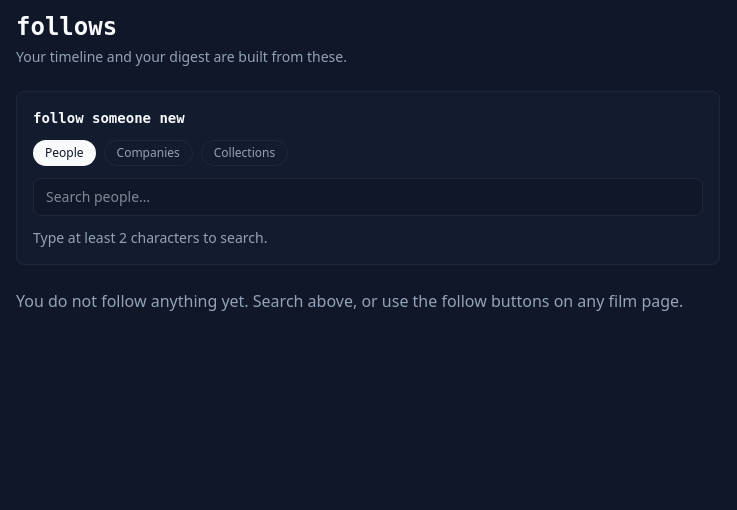
MyFollows › keeps the name once the server answers, not just while the request is open
The width and height of the screenshot is (737, 510).
In the search field labelled "Search people…": (368, 197) [33, 178, 703, 216], type "nolan"
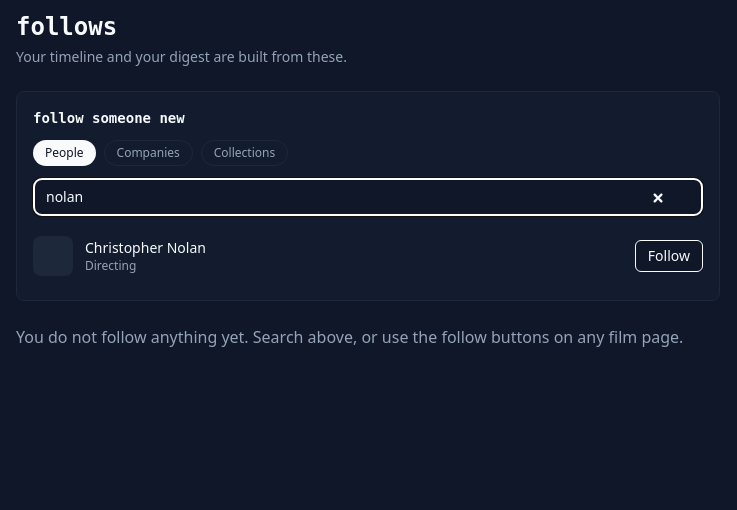
Click the button with aria-label "follow christopher nolan": (669, 256) [635, 240, 703, 272]
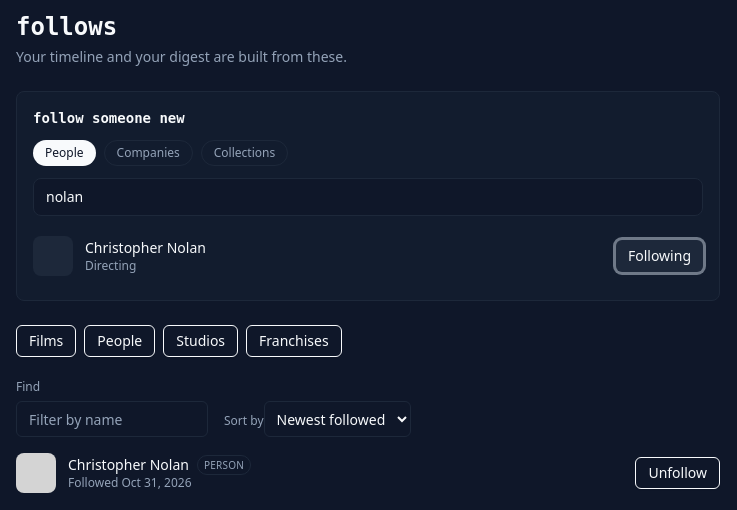
Now the link "Christopher Nolan" below "Follow someone new" is shown, box [85, 238, 206, 257]
Now the link "Christopher Nolan" next to "Person" is shown, box [68, 455, 189, 474]
